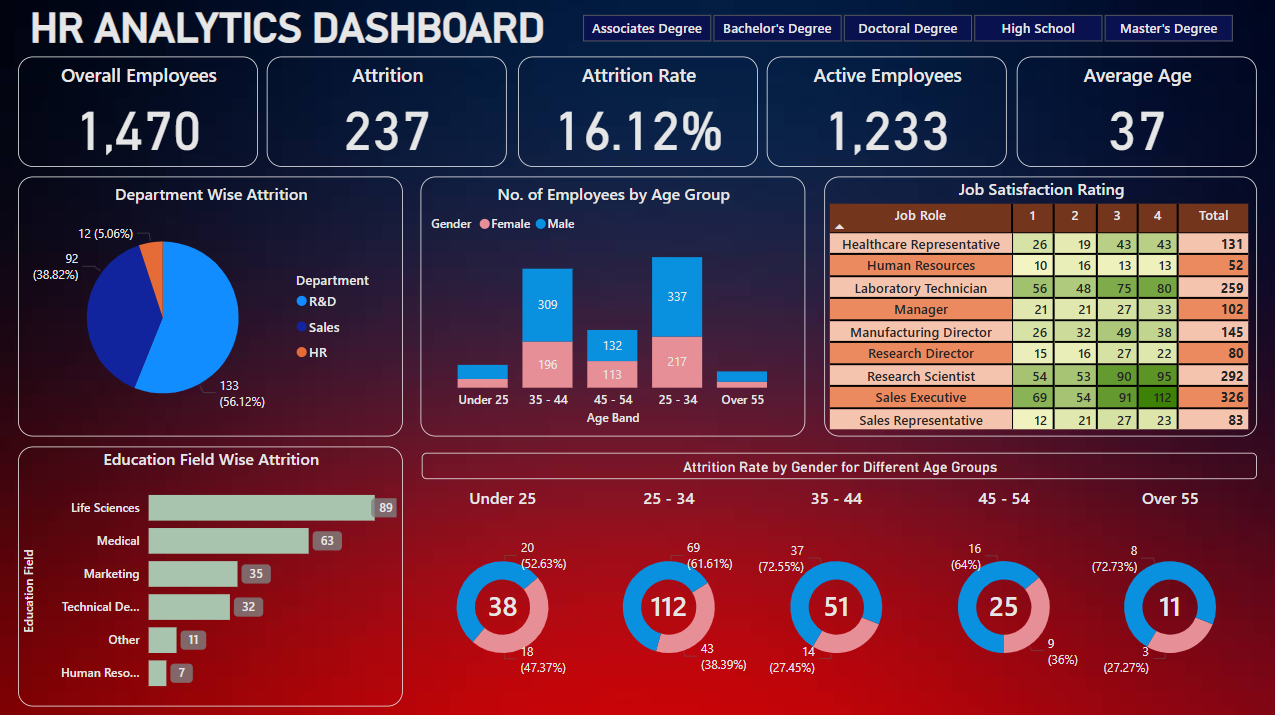

This screenshot's page, from the dashboard's own definition file:
{"tool":"powerbi","page":{"name":"HR Dashboard","canvas":[1280,720],"ordinal":0},"visuals":[{"type":"card","title":"Overall Employees","fields":{"Values":["Sum(HR_Dataset.Employee Count)"]},"box":[20,57,240,110],"z":0},{"type":"card","title":"Attrition","fields":{"Values":["Sum(HR_Dataset.Attrition Count)"]},"box":[269,57,240,110],"z":1000},{"type":"card","title":"Attrition Rate","fields":{"Values":["HR_Dataset.Attrition Rate"]},"box":[520,57,240,110],"z":2000},{"type":"card","title":"Active Employees","fields":{"Values":["HR_Dataset.Active Employees"]},"box":[769,57,240,110],"z":3000},{"type":"card","title":"Average Age","fields":{"Values":["Avg(HR_Dataset.Age)"]},"box":[1019,57,240,110],"z":4000},{"type":"pieChart","title":"Department Wise Attrition","fields":{"Category":["HR_Dataset.Department"],"Y":["Sum(HR_Dataset.Attrition Count)"]},"box":[20,178,385,260],"z":5000},{"type":"columnChart","title":"No. of Employees by Age Group","fields":{"Category":["HR_Dataset.CF_age band"],"Y":["Sum(HR_Dataset.Employee Count)"],"Series":["HR_Dataset.Gender"]},"box":[422,178,385,260],"z":6000},{"type":"pivotTable","title":"Job Satisfaction Rating","fields":{"Rows":["HR_Dataset.Job Role"],"Columns":["HR_Dataset.Job Satisfaction"],"Values":["Sum(HR_Dataset.Employee Count)"]},"box":[826,178,433,260],"z":7000},{"type":"barChart","title":"Education Field Wise Attrition","fields":{"Category":["HR_Dataset.Education Field"],"Y":["Sum(HR_Dataset.Attrition Count)"]},"box":[20,448,385,260],"z":8000},{"type":"donutChart","title":"Under 25","fields":{"Category":["HR_Dataset.Gender"],"Y":["Sum(HR_Dataset.Attrition Count)"],"Series":["HR_Dataset.CF_age band"]},"box":[421,488,167,220],"z":9000},{"type":"textbox","title":"Attrition Rate by Gender for Different Age Groups","box":[424,454,835,26],"z":10000},{"type":"donutChart","title":"25 - 34","fields":{"Category":["HR_Dataset.Gender"],"Y":["Sum(HR_Dataset.Attrition Count)"],"Series":["HR_Dataset.CF_age band"]},"box":[588,488,167,220],"z":11000},{"type":"donutChart","title":"35 - 44","fields":{"Category":["HR_Dataset.Gender"],"Y":["Sum(HR_Dataset.Attrition Count)"],"Series":["HR_Dataset.CF_age band"]},"box":[755,488,167,220],"z":12000},{"type":"donutChart","title":"45 - 54","fields":{"Category":["HR_Dataset.Gender"],"Y":["Sum(HR_Dataset.Attrition Count)"],"Series":["HR_Dataset.CF_age band"]},"box":[922,488,167,220],"z":13000},{"type":"donutChart","title":"Over 55","fields":{"Category":["HR_Dataset.Gender"],"Y":["Sum(HR_Dataset.Attrition Count)"],"Series":["HR_Dataset.CF_age band"]},"box":[1089,488,167,220],"z":14000},{"type":"card","fields":{"Values":["Sum(HR_Dataset.Attrition Count)"]},"box":[476,591,57,34],"z":15000},{"type":"card","fields":{"Values":["Sum(HR_Dataset.Attrition Count)"]},"box":[643,591,57,34],"z":16000},{"type":"card","fields":{"Values":["Sum(HR_Dataset.Attrition Count)"]},"box":[810,591,57,34],"z":17000},{"type":"card","fields":{"Values":["Sum(HR_Dataset.Attrition Count)"]},"box":[977,591,57,34],"z":18000},{"type":"card","fields":{"Values":["Sum(HR_Dataset.Attrition Count)"]},"box":[1144,591,57,34],"z":19000},{"type":"textbox","title":"HR ANALYTICS DASHBOARD","box":[20,0,538.6,48.6],"z":20000},{"type":"slicer","fields":{"Values":["HR_Dataset.Education"]},"box":[558.6,8.6,700,40],"z":21000}]}

Visuals, with their boxes in screenshot pixels (x1, y1, x2, y2), scaled from the page's 1280x720 canvas onto the 1275x715 screenshot:
"Overall Employees" card: x1=20, y1=57, x2=259, y2=166
"Attrition" card: x1=268, y1=57, x2=507, y2=166
"Attrition Rate" card: x1=518, y1=57, x2=757, y2=166
"Active Employees" card: x1=766, y1=57, x2=1005, y2=166
"Average Age" card: x1=1015, y1=57, x2=1254, y2=166
"Department Wise Attrition" pieChart: x1=20, y1=177, x2=403, y2=435
"No. of Employees by Age Group" columnChart: x1=420, y1=177, x2=804, y2=435
"Job Satisfaction Rating" pivotTable: x1=823, y1=177, x2=1254, y2=435
"Education Field Wise Attrition" barChart: x1=20, y1=445, x2=403, y2=703
"Under 25" donutChart: x1=419, y1=485, x2=586, y2=703
"Attrition Rate by Gender for Different Age Groups" textbox: x1=422, y1=451, x2=1254, y2=477
"25 - 34" donutChart: x1=586, y1=485, x2=752, y2=703
"35 - 44" donutChart: x1=752, y1=485, x2=918, y2=703
"45 - 54" donutChart: x1=918, y1=485, x2=1085, y2=703
"Over 55" donutChart: x1=1085, y1=485, x2=1251, y2=703
card - Sum(HR_Dataset.Attrition Count): x1=474, y1=587, x2=531, y2=621
card - Sum(HR_Dataset.Attrition Count): x1=640, y1=587, x2=697, y2=621
card - Sum(HR_Dataset.Attrition Count): x1=807, y1=587, x2=864, y2=621
card - Sum(HR_Dataset.Attrition Count): x1=973, y1=587, x2=1030, y2=621
card - Sum(HR_Dataset.Attrition Count): x1=1140, y1=587, x2=1196, y2=621
"HR ANALYTICS DASHBOARD" textbox: x1=20, y1=0, x2=556, y2=48
slicer - HR_Dataset.Education: x1=556, y1=9, x2=1254, y2=48
